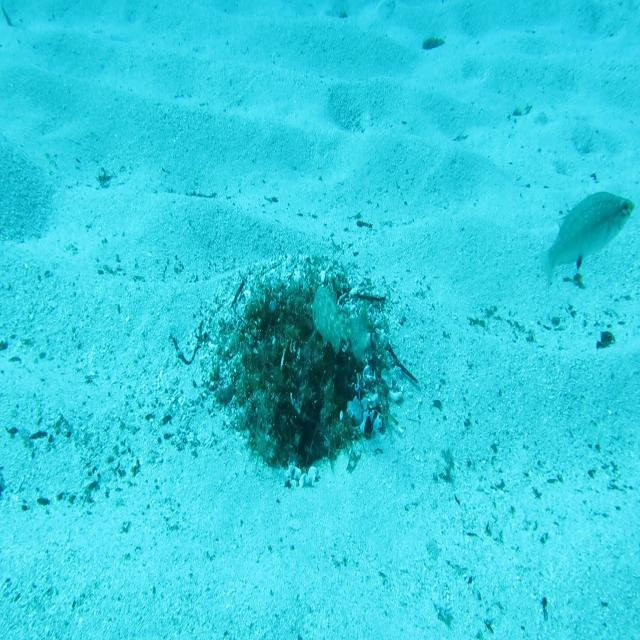NIP_CORE: (310, 284, 375, 368)
core_nest: (273, 305, 331, 355)
female: (537, 188, 636, 296)
nest: (198, 239, 418, 497)
vegetation: (596, 328, 616, 352)
